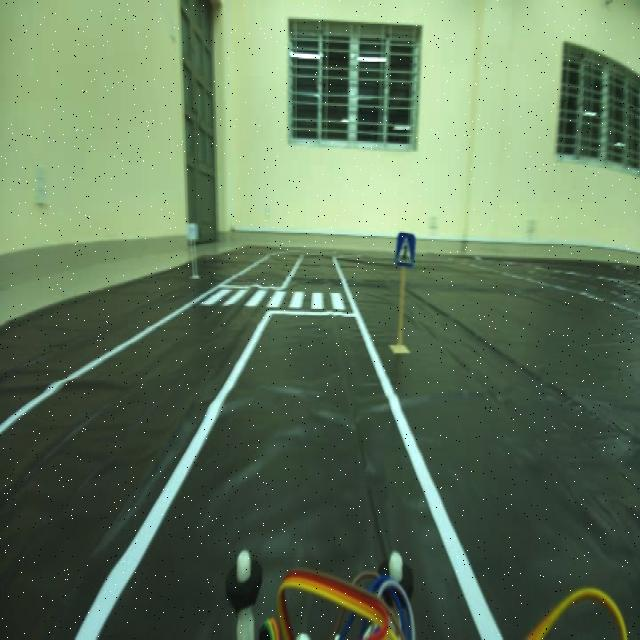crosswalk: (391, 226, 421, 268)
